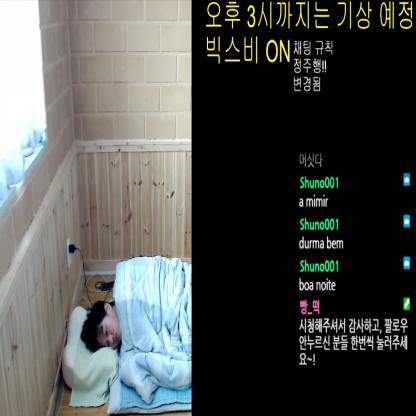streamer: (81, 262, 192, 386)
